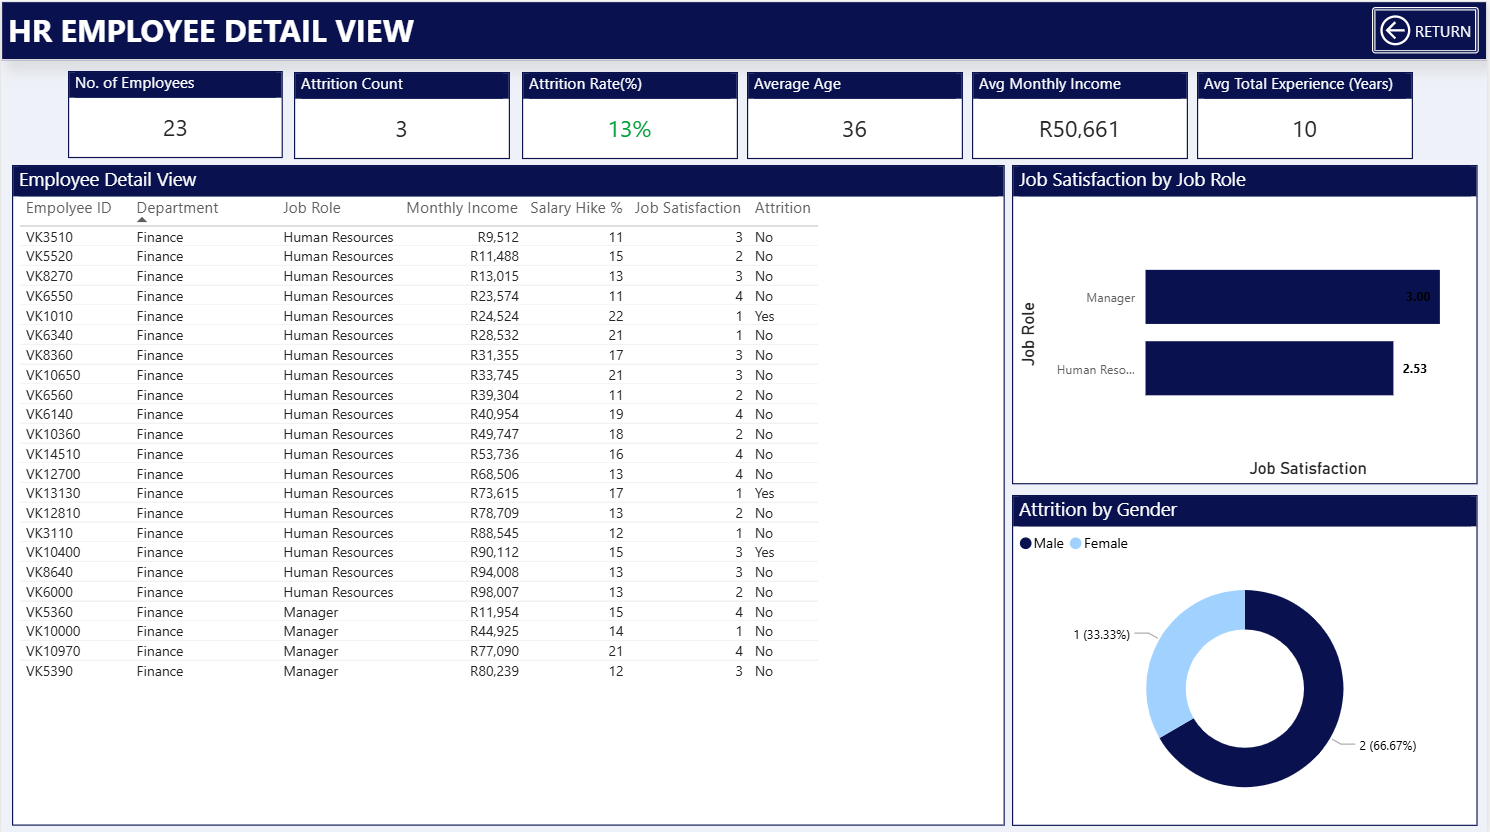

Layout of this report page (visuals, bound fields, positions):
{"tool":"powerbi","page":{"name":"Employee Details","canvas":[1280,720],"ordinal":4},"visuals":[{"type":"textbox","box":[0,0,1280,50.9],"z":0},{"type":"tableEx","title":"Employee Detail View","fields":{"Values":["HR_Analytics.EmpID","HR_Analytics.Department","HR_Analytics.JobRole","HR_Analytics.MonthlyIncome","HR_Analytics.SalaryHike %","HR_Analytics.JobSatisfaction","HR_Analytics.Attrition"]},"box":[9.3,141.2,854.6,569.1],"z":3000},{"type":"cardVisual","title":"No. of Employees","fields":{"Data":["Measure.No. of Emp"]},"box":[57.7,60,185,75],"z":4000},{"type":"cardVisual","title":"Attrition Count","fields":{"Data":["Measure.Attrition Count"]},"box":[252.2,60.8,185.6,75],"z":5000},{"type":"cardVisual","title":"Attrition Rate(%)","fields":{"Data":["Measure.Attritrion Rate(%)"]},"box":[448.8,60.8,185.6,75],"z":6000},{"type":"cardVisual","title":"Average Age","fields":{"Data":["Measure.Average Age"]},"box":[642.2,60.8,185.6,75],"z":7000},{"type":"cardVisual","title":"Avg Monthly Income","fields":{"Data":["Measure.Avg Monthly Income"]},"box":[836.6,60.8,185.6,75],"z":8000},{"type":"cardVisual","title":"Avg Total Experience (Years)","fields":{"Data":["Measure.Avg Total Experience"]},"box":[1030,60.8,185.6,75],"z":9000},{"type":"actionButton","box":[1180.4,5.2,91.8,40.2],"z":10000},{"type":"donutChart","fields":{"Y":["Measure.Attrition Count"],"Category":["HR_Analytics.Gender"]},"box":[871.1,425.8,401,284.5],"z":11000},{"type":"clusteredBarChart","fields":{"Y":["Avg(HR_Analytics.JobSatisfaction)"],"Category":["HR_Analytics.JobRole"]},"box":[871.1,141.2,401,275.3],"z":12000}]}

Visuals, with their boxes in screenshot pixels (x1, y1, x2, y2), scaled from the page's 1280x720 canvas onto the 1490x832 screenshot:
textbox: <box>0,0,1489,59</box>
"Employee Detail View" tableEx: <box>11,163,1006,821</box>
"No. of Employees" cardVisual: <box>67,69,283,156</box>
"Attrition Count" cardVisual: <box>294,70,510,157</box>
"Attrition Rate(%)" cardVisual: <box>522,70,738,157</box>
"Average Age" cardVisual: <box>748,70,964,157</box>
"Avg Monthly Income" cardVisual: <box>974,70,1190,157</box>
"Avg Total Experience (Years)" cardVisual: <box>1199,70,1415,157</box>
actionButton: <box>1374,6,1481,52</box>
donutChart - Measure.Attrition Count x HR_Analytics.Gender: <box>1014,492,1481,821</box>
clusteredBarChart - Avg(HR_Analytics.JobSatisfaction) x HR_Analytics.JobRole: <box>1014,163,1481,481</box>
